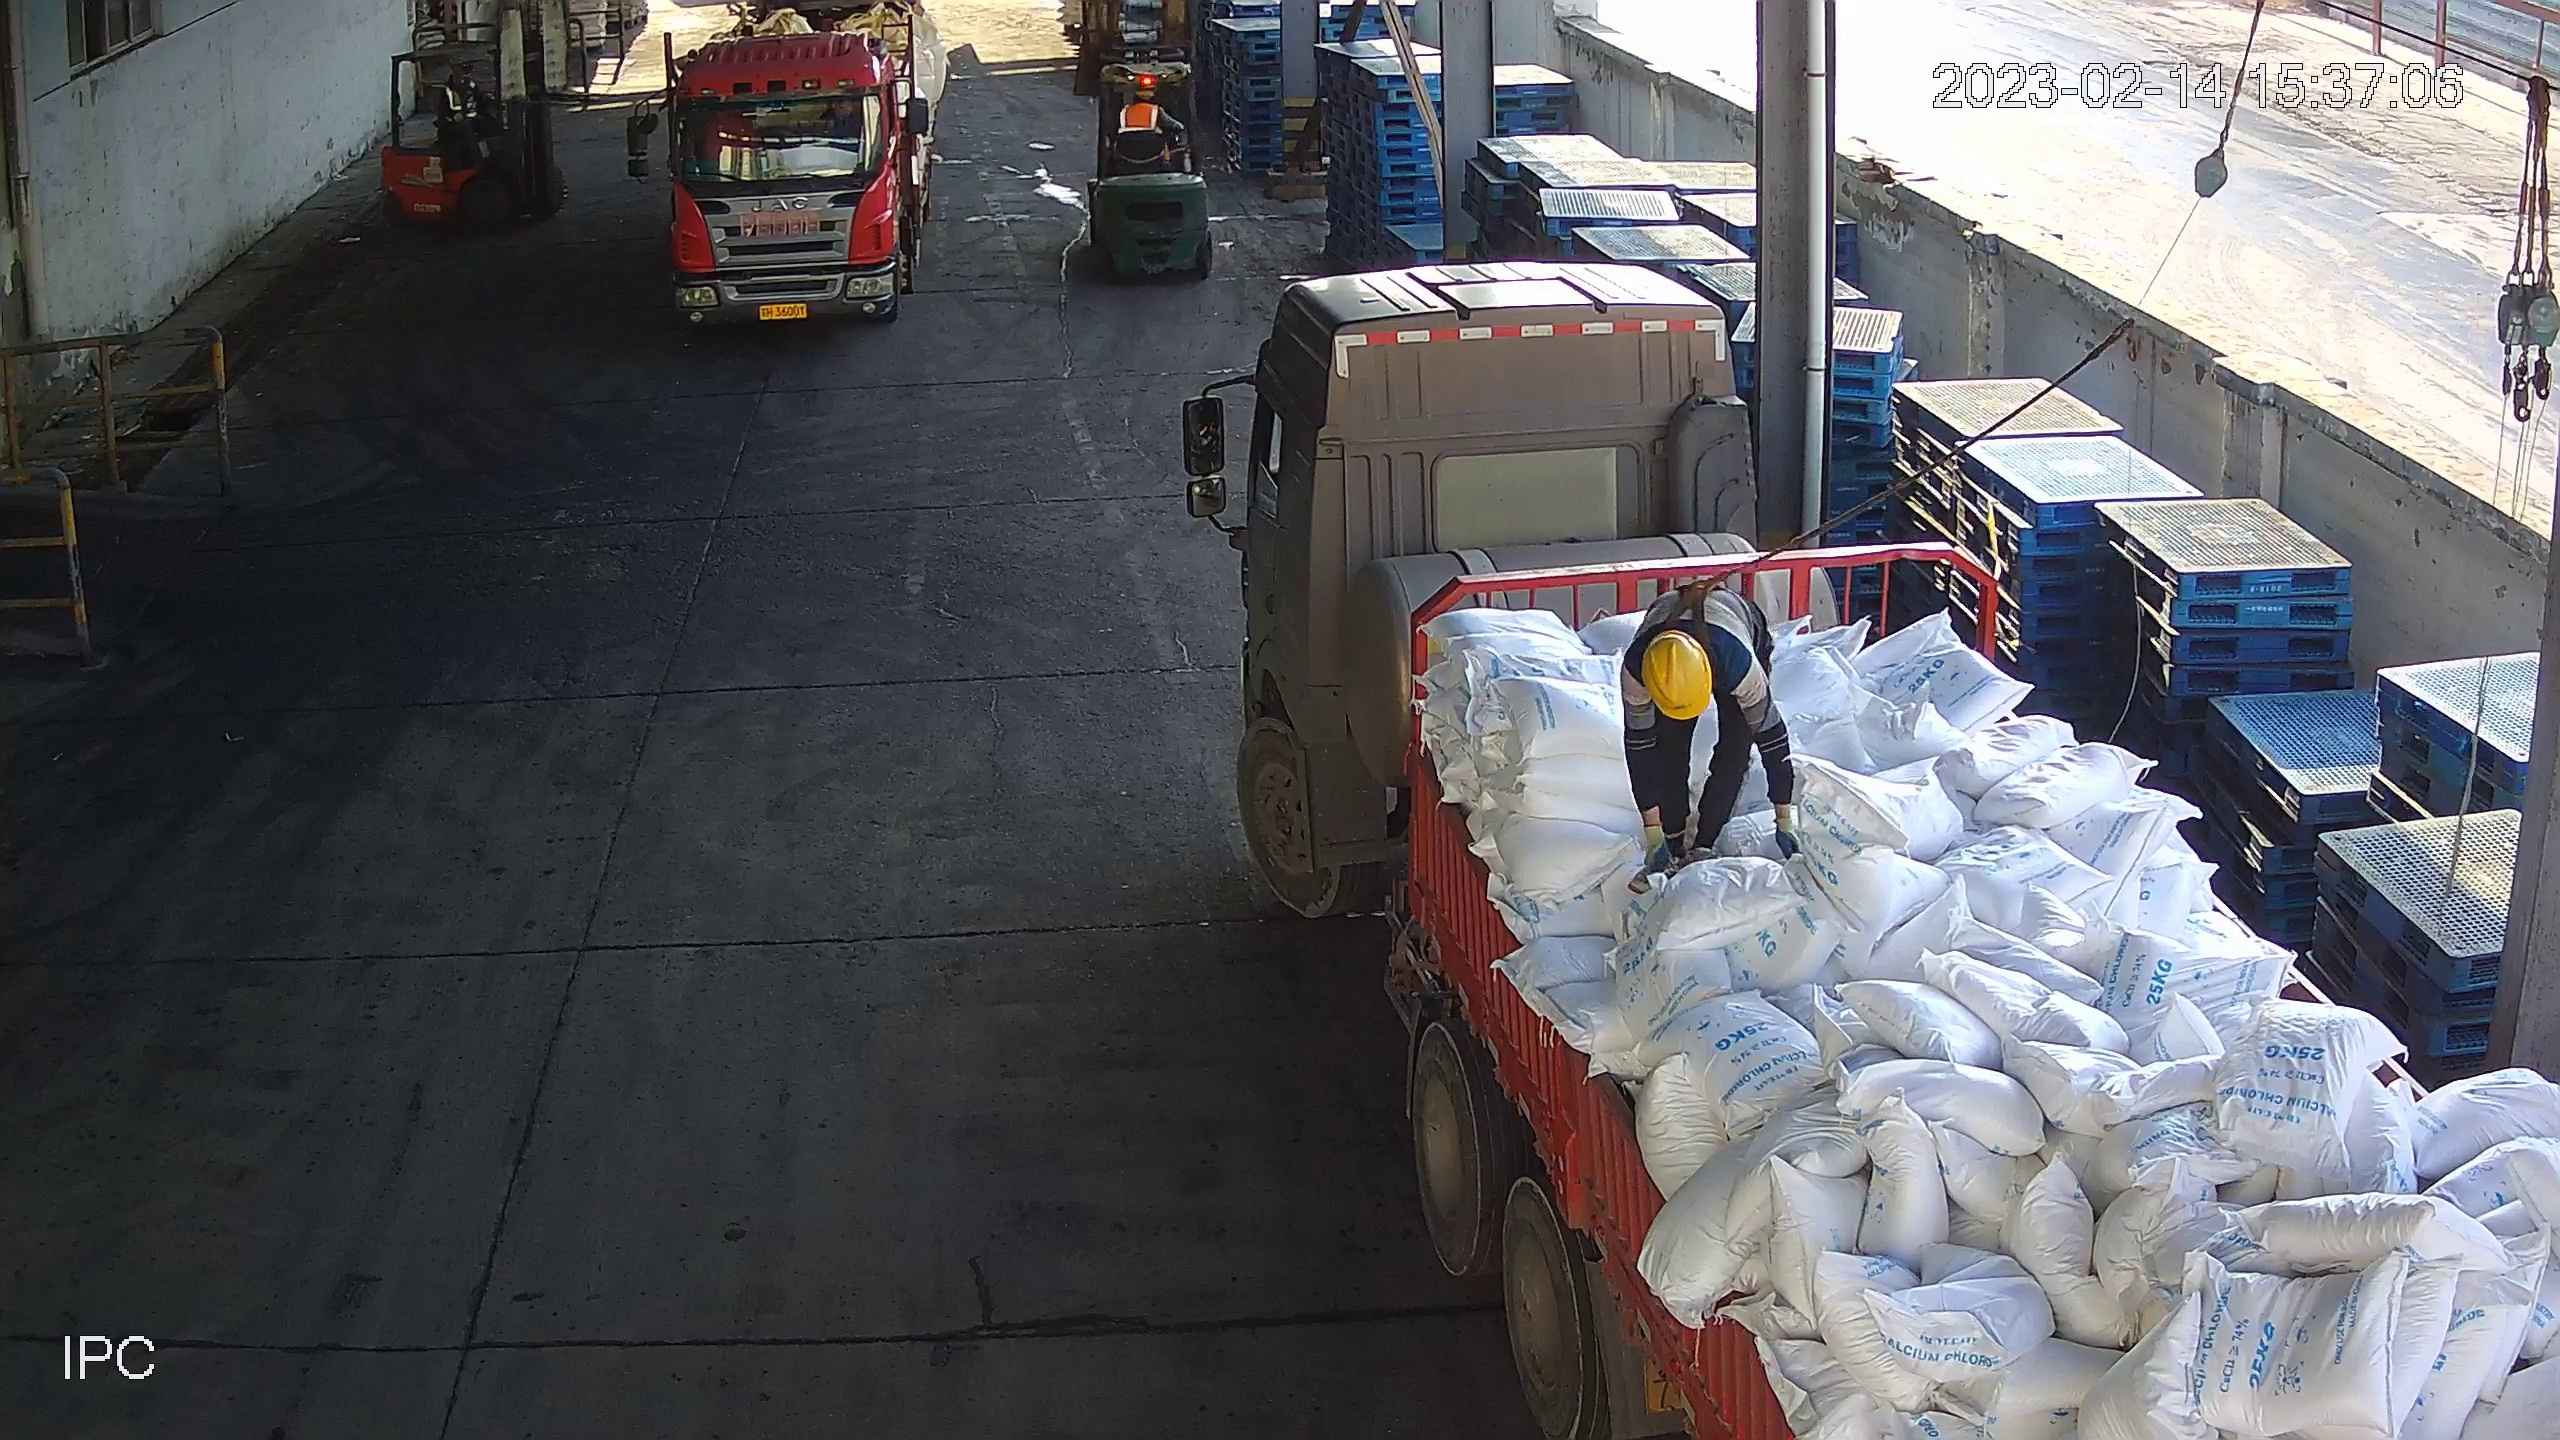belt: (1661, 564, 1740, 646)
head: (1618, 591, 1761, 712), (1114, 73, 1173, 131)
helmet: (1636, 625, 1716, 727)
people: (1612, 564, 1798, 875)
truck: (1177, 253, 2560, 1440), (651, 3, 949, 319)
